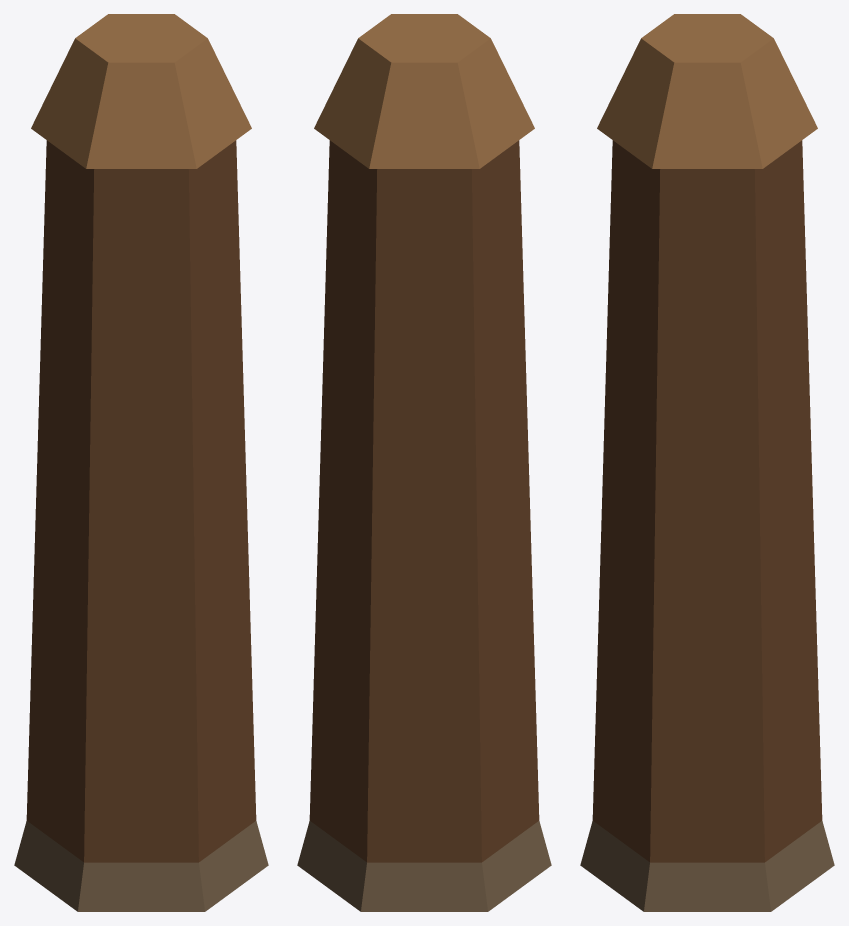
The model's file is rail_post.glb.
The picture shows the model from 3 angles, left to right: view 1: azimuth 30°, elevation 25°; view 2: azimuth 150°, elevation 25°; view 3: azimuth 270°, elevation 25°; orthographic projection.
Visible parts, largest first — view 1: rail_post; view 2: rail_post; view 3: rail_post.
Boxes of the visible parts, x1,y1,x2,y2 form: rail_post: (14,14,268,911); rail_post: (297,14,551,911); rail_post: (580,14,834,911).
Bounding box in the file's own units: 0.3984 × 1.65 × 0.46.
